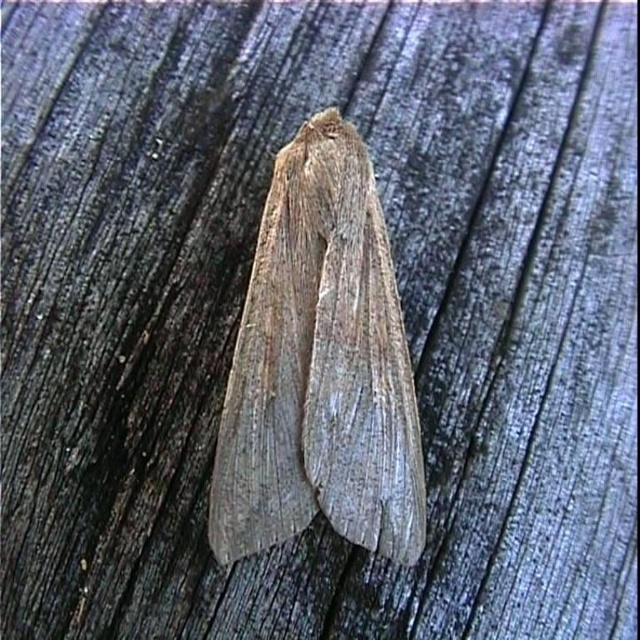Moths and butterflies: (204, 104, 427, 572)
